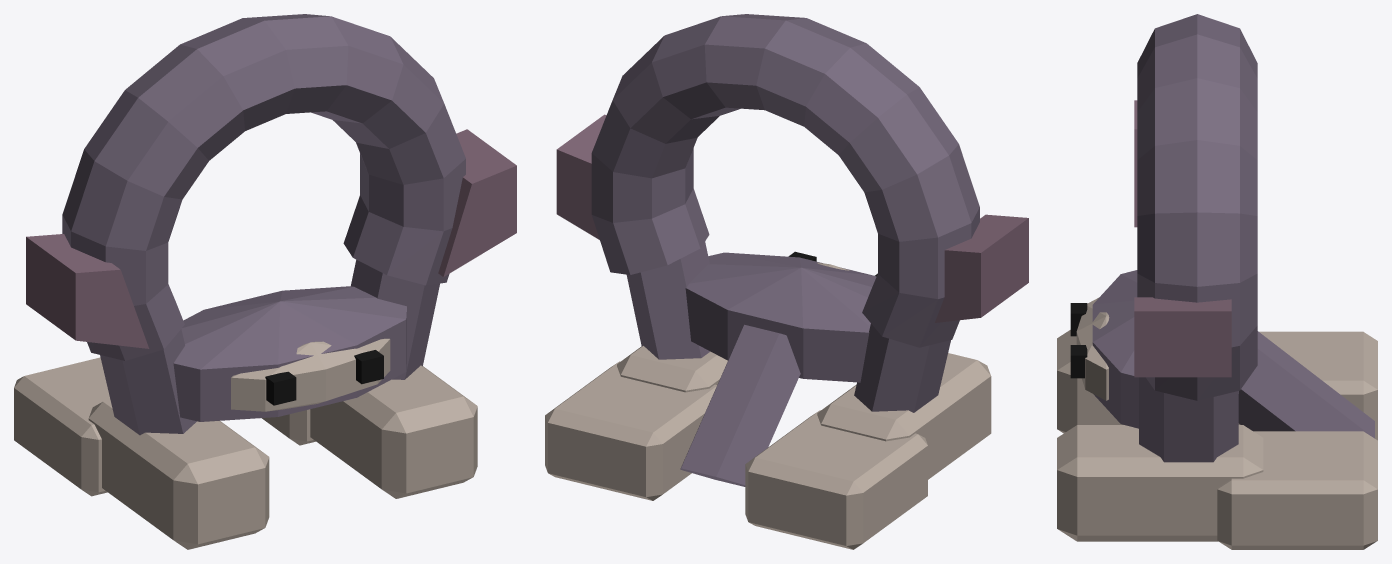
File: stillarch.glb
3 renders of one model, left to right at view 1: azimuth 30°, elevation 25°; view 2: azimuth 150°, elevation 25°; view 3: azimuth 270°, elevation 25°, orthographic. The views are drawn at different scales.
Visible parts, largest first — view 1: Stillarch; view 2: Stillarch; view 3: Stillarch.
Boxes of the visible parts, x1,y1,x2,y2 form: Stillarch: [14, 14, 516, 549]; Stillarch: [545, 14, 1028, 549]; Stillarch: [1057, 14, 1377, 549].
Size of the model in its own units: 0.84 by 0.82 by 0.54.
